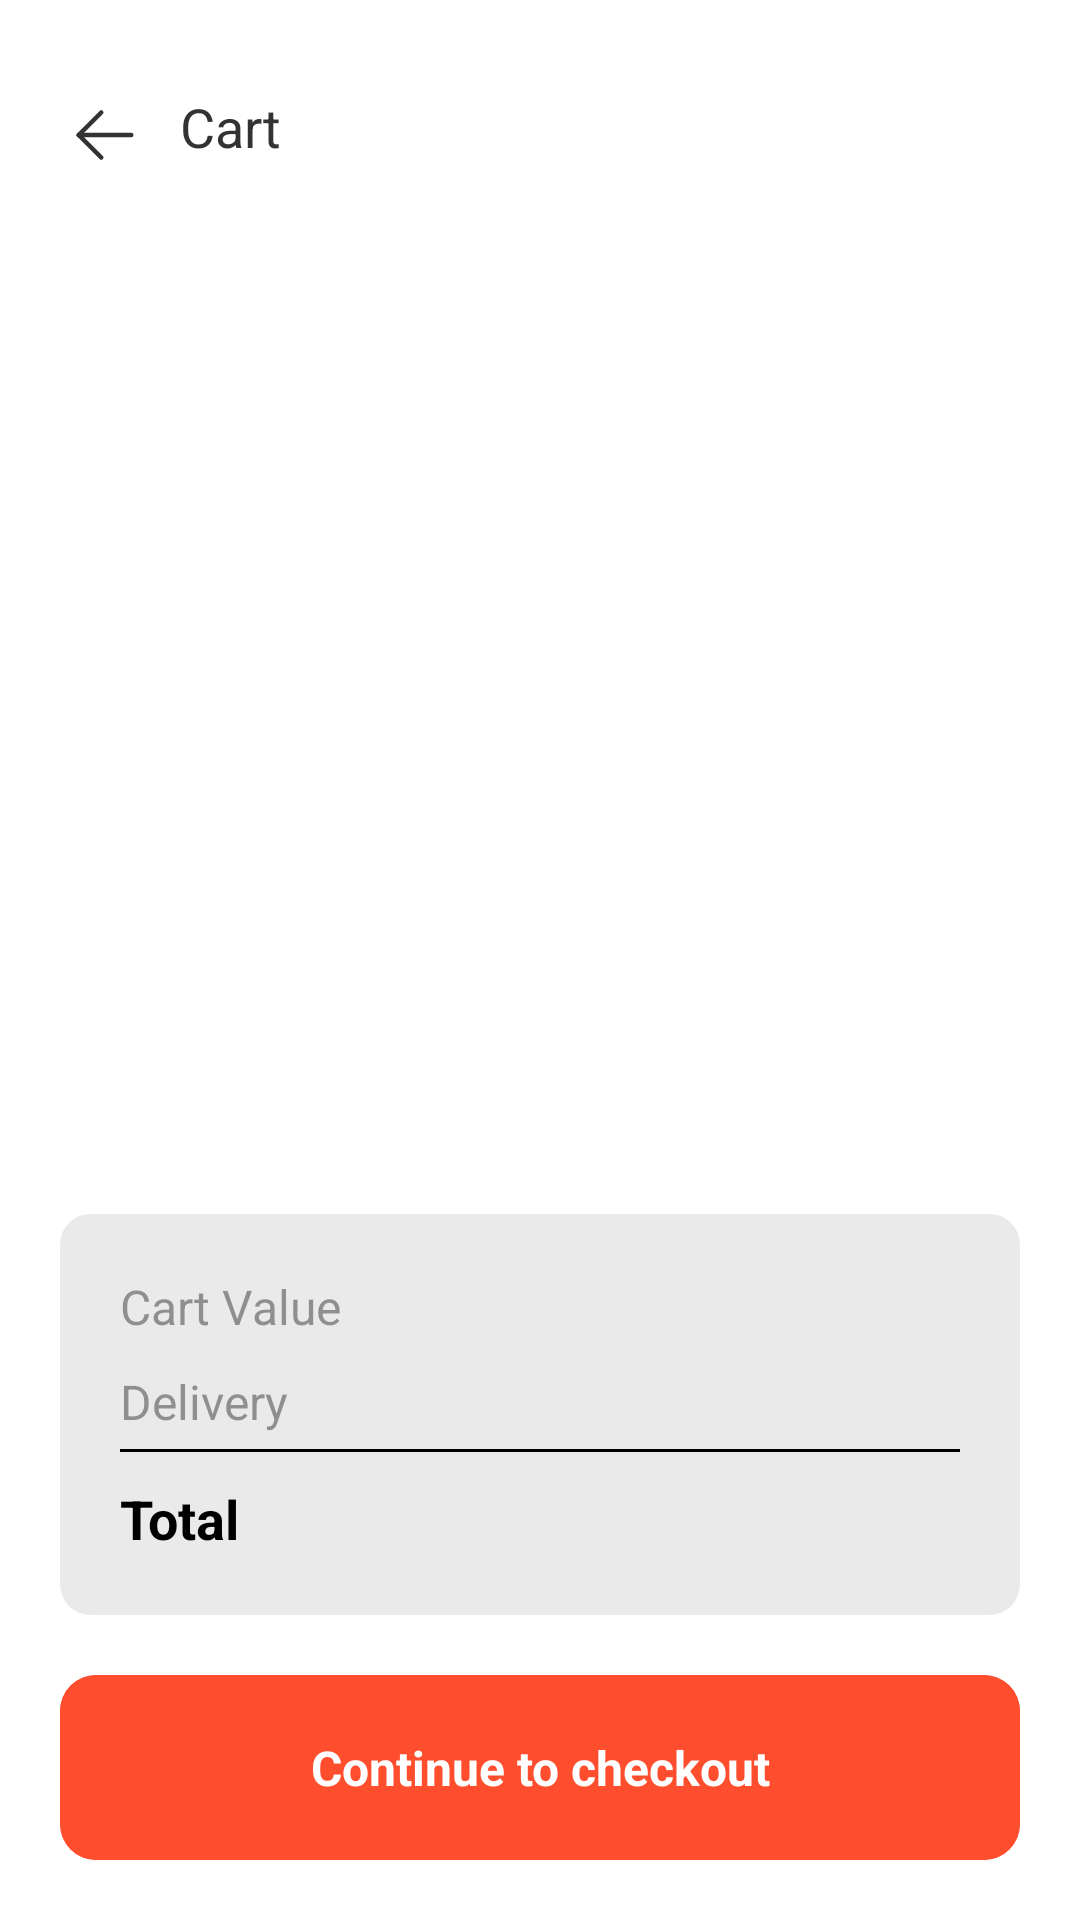

Locate icon controls on the screen. Image size 1080px x 1920px, boxes as (x1, y1, x2, y2).
back: (76, 110, 134, 160)
